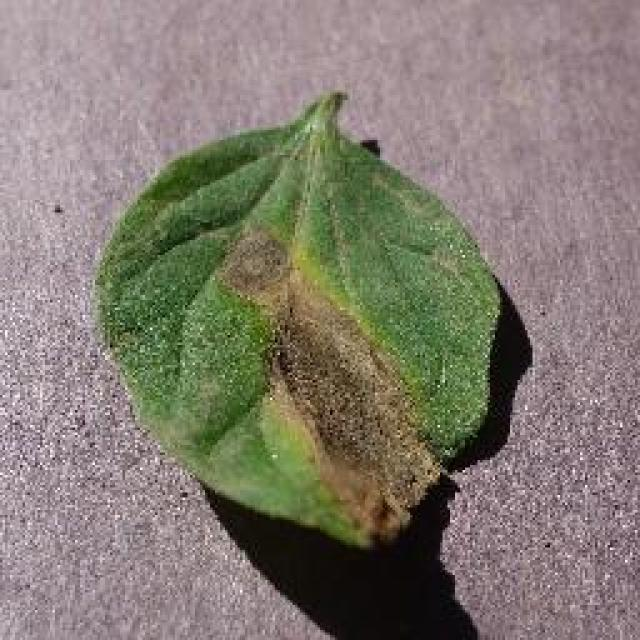Tomato___Early_blight: (89, 92, 504, 549)
